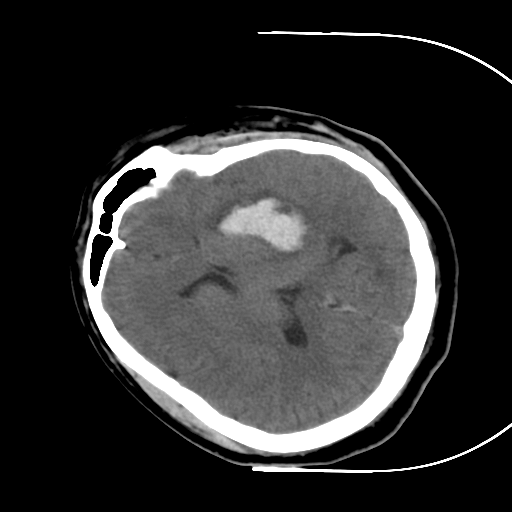a: (185, 175, 337, 276)
